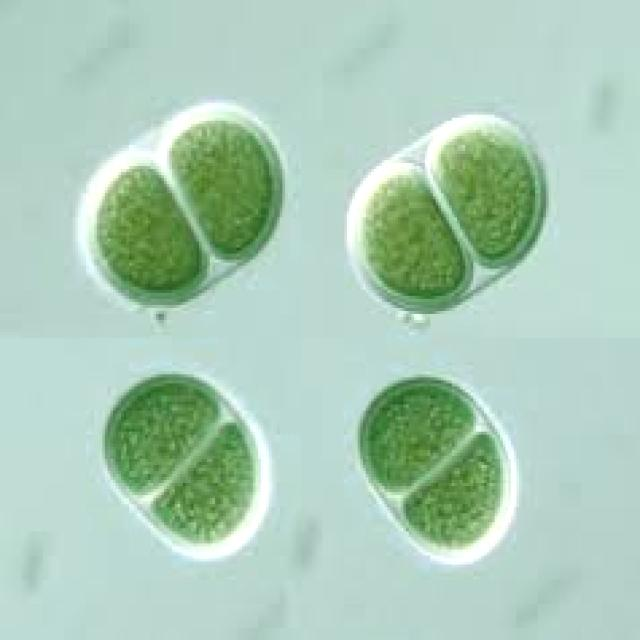Blue Green Algae: (167, 111, 274, 262), (92, 160, 205, 296), (430, 120, 538, 262), (355, 166, 468, 299), (102, 377, 221, 498), (145, 419, 256, 546), (403, 428, 503, 550), (360, 405, 433, 495), (403, 383, 479, 453)
